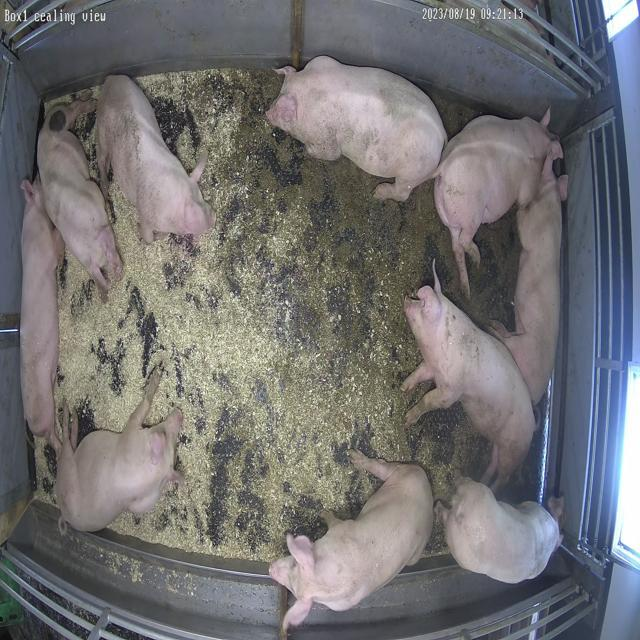Dirt: (205, 70, 520, 496), (434, 95, 478, 132)
Pig: (270, 452, 434, 632), (402, 270, 537, 488), (266, 55, 448, 200), (435, 110, 553, 296), (55, 369, 183, 532), (96, 75, 215, 242), (495, 142, 569, 404), (37, 100, 122, 296), (438, 479, 562, 584), (19, 180, 64, 448)
